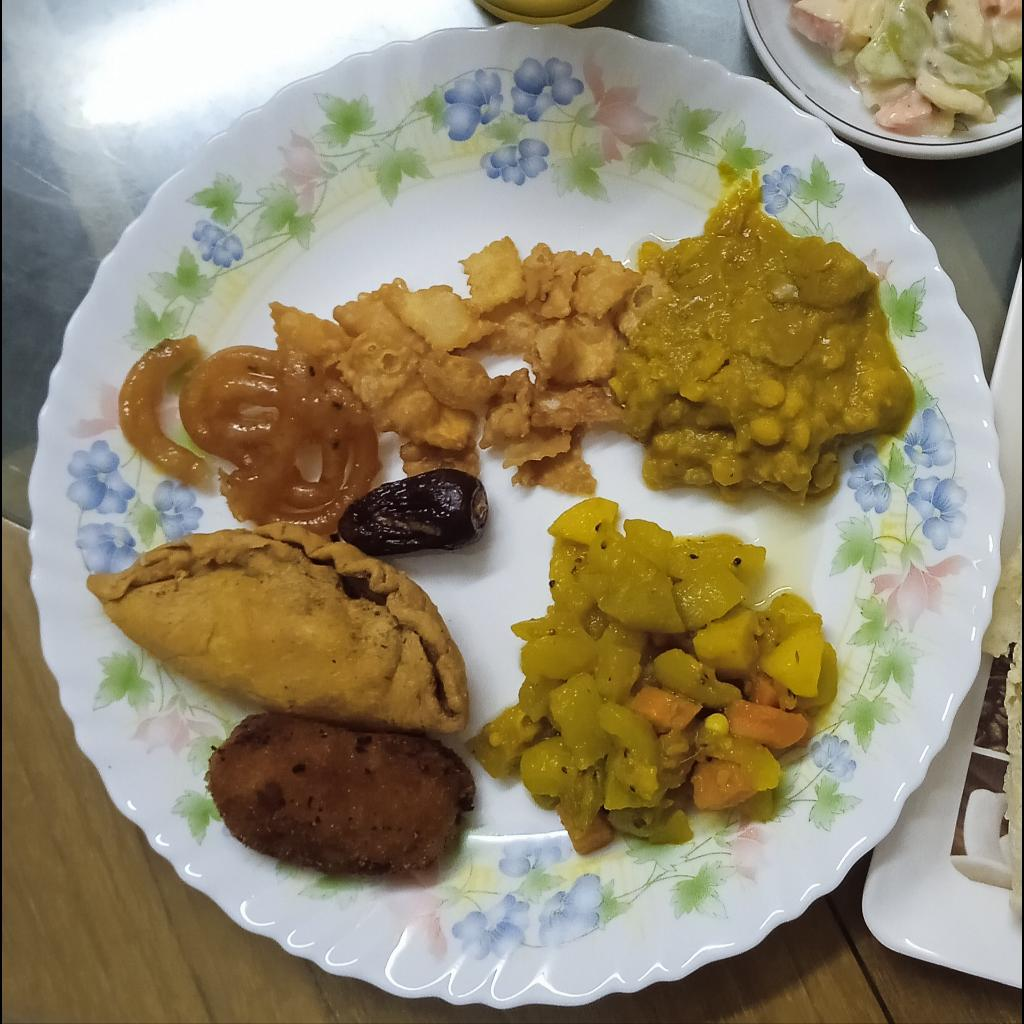chomchom: (270, 237, 675, 496)
chop-alu: (205, 711, 478, 873)
daal: (613, 181, 917, 508)
dates: (340, 467, 491, 557)
jilapi: (116, 335, 383, 533)
salad: (791, 0, 1022, 136)
sweets: (84, 529, 473, 731)
vegetable: (467, 501, 844, 859)
